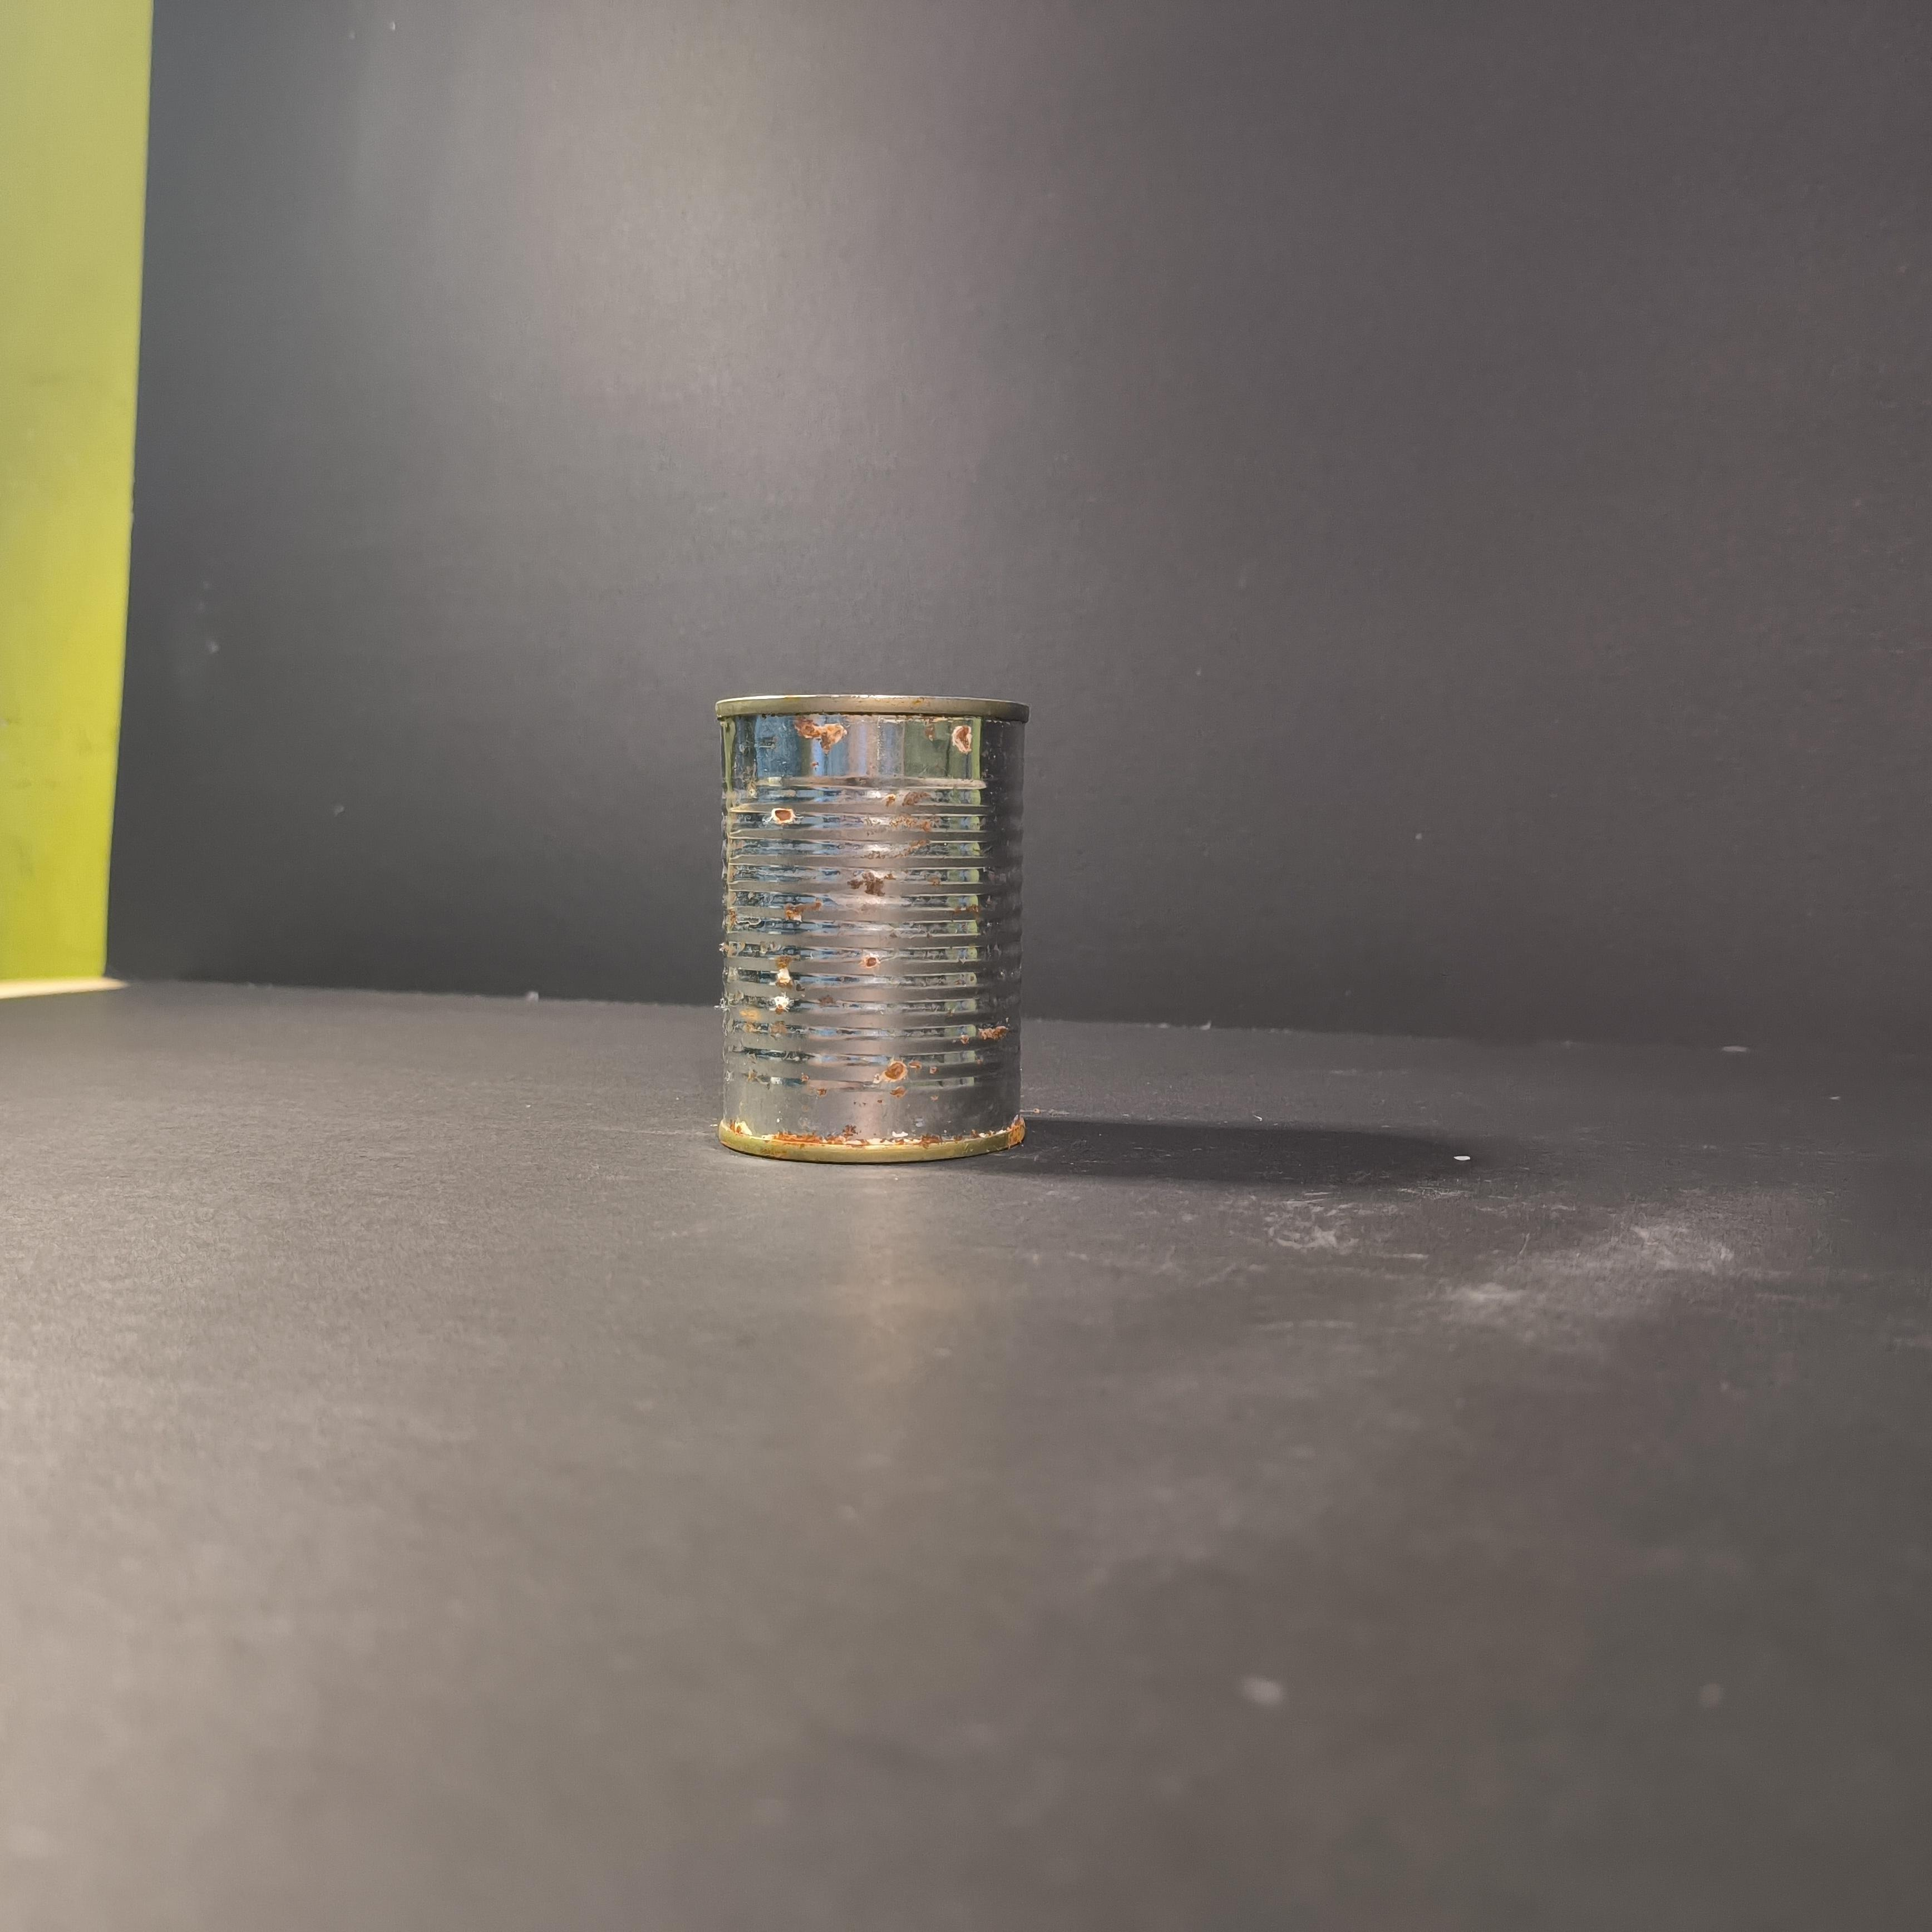Rusted: (695, 656, 1039, 1177)
